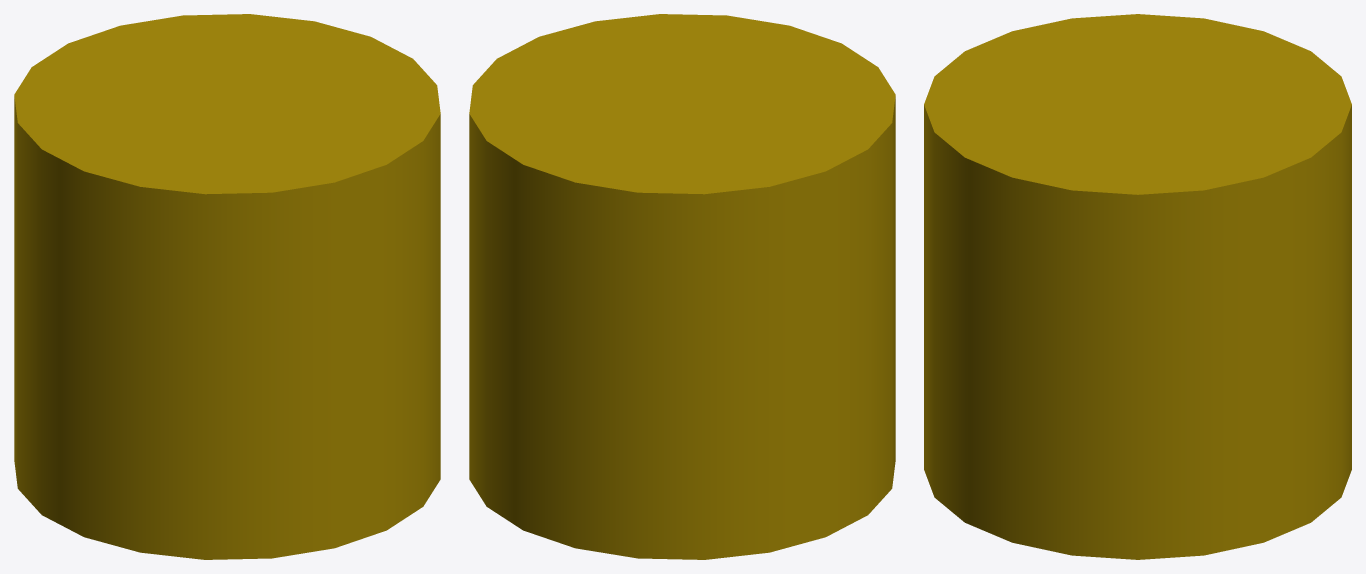
Rendered from Keyhole1.fbx.
3 renders of one model, left to right at view 1: azimuth 30°, elevation 25°; view 2: azimuth 150°, elevation 25°; view 3: azimuth 270°, elevation 25°, orthographic.
Visible parts, largest first — view 1: pCylinder2; view 2: pCylinder2; view 3: pCylinder2.
Part boxes in pixels (x1=…): pCylinder2: x1=14, y1=14, x2=440, y2=559; pCylinder2: x1=469, y1=14, x2=895, y2=559; pCylinder2: x1=924, y1=14, x2=1351, y2=559.
Bounding box in the file's own units: 3.05 × 2.87 × 3.05.
